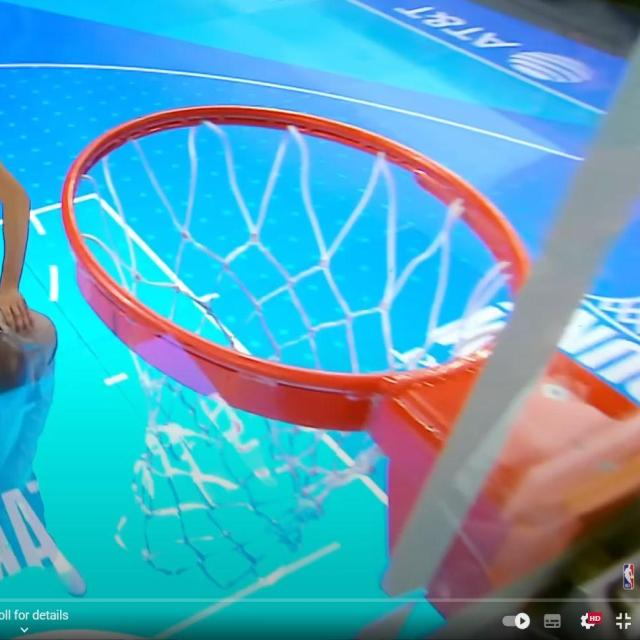hoop: (41, 112, 552, 499)
